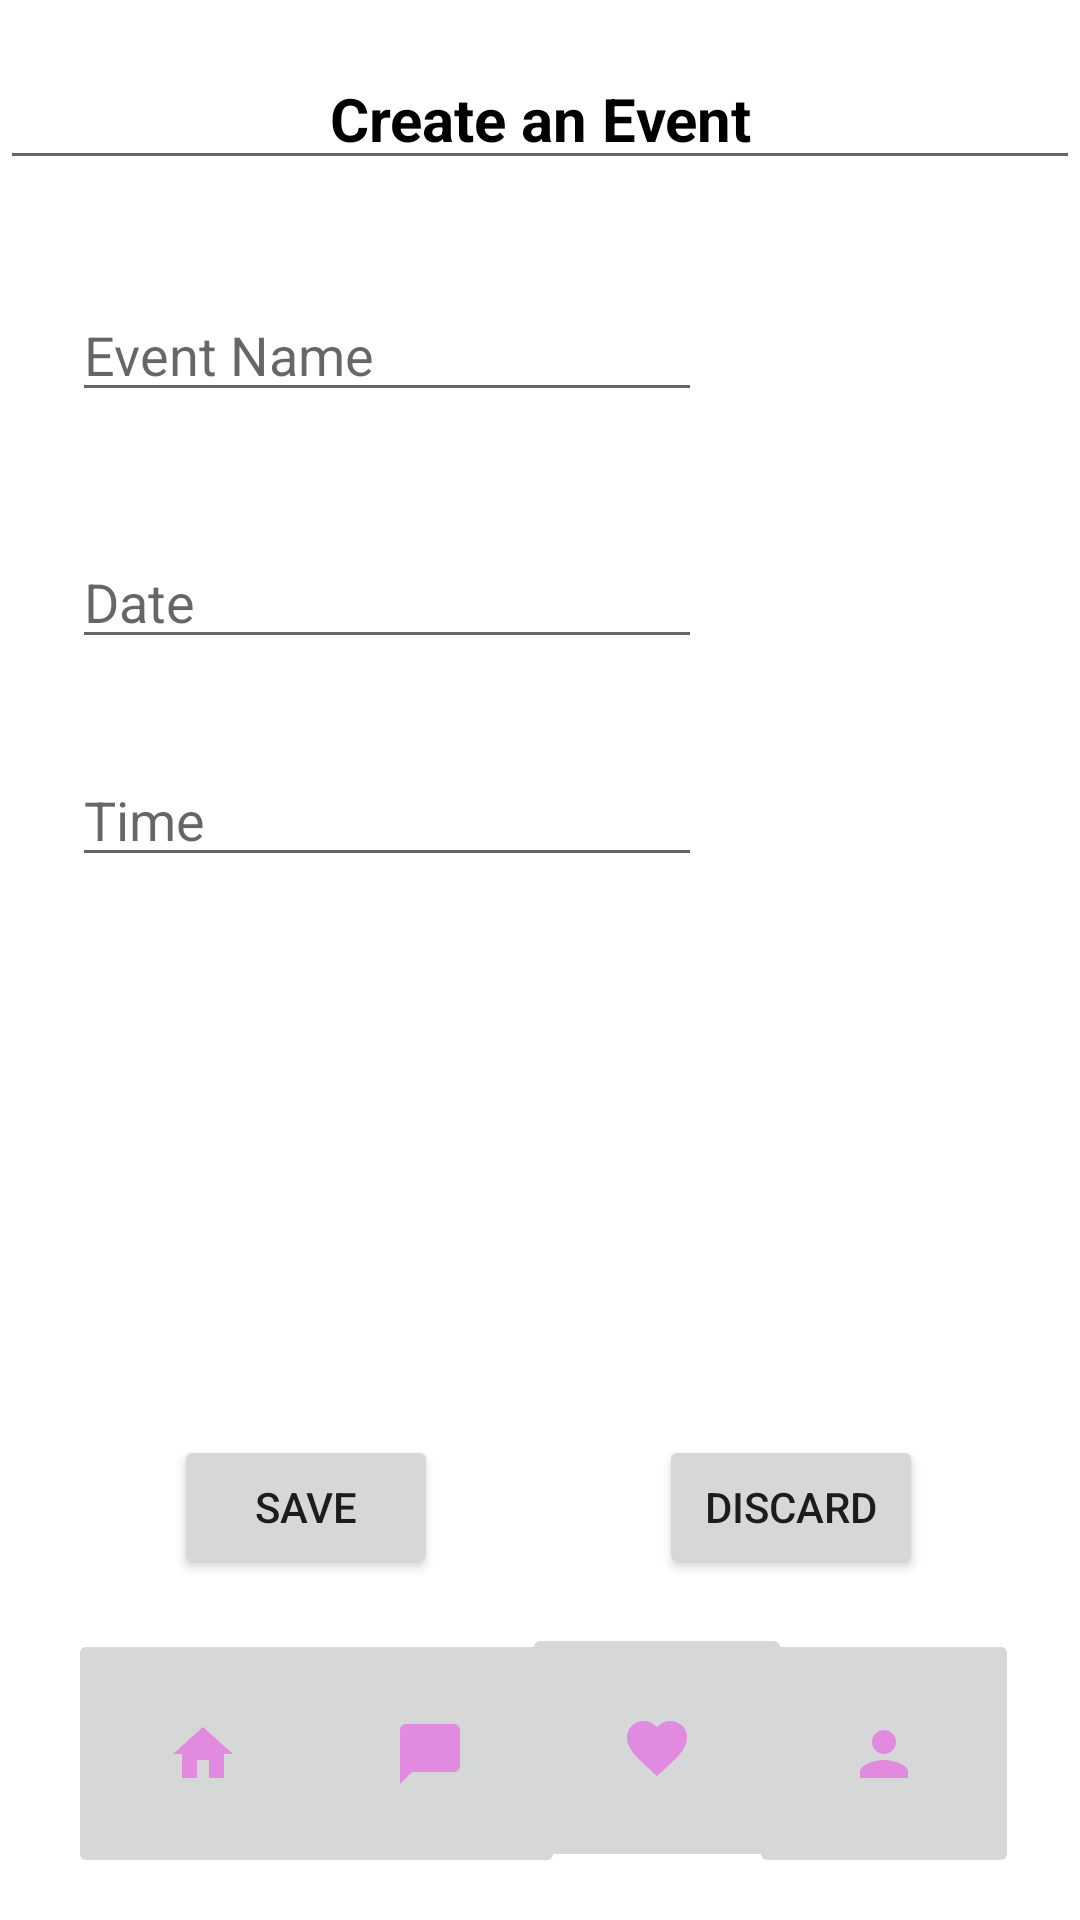

Where to tap for icons on this 1080w x 1920h app screen, as (x=x, y=y):
favourites: (x=657, y=1747)
home: (x=209, y=1753)
person: (x=878, y=1750)
